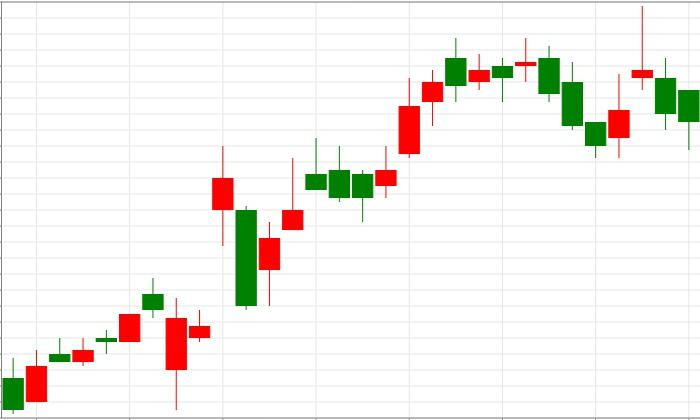shooting_star_fall: (235, 138, 328, 310)
